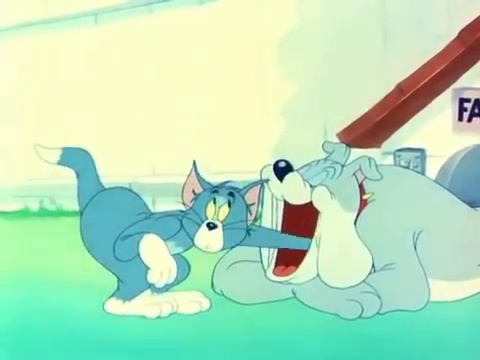tom: (176, 156, 269, 261)
